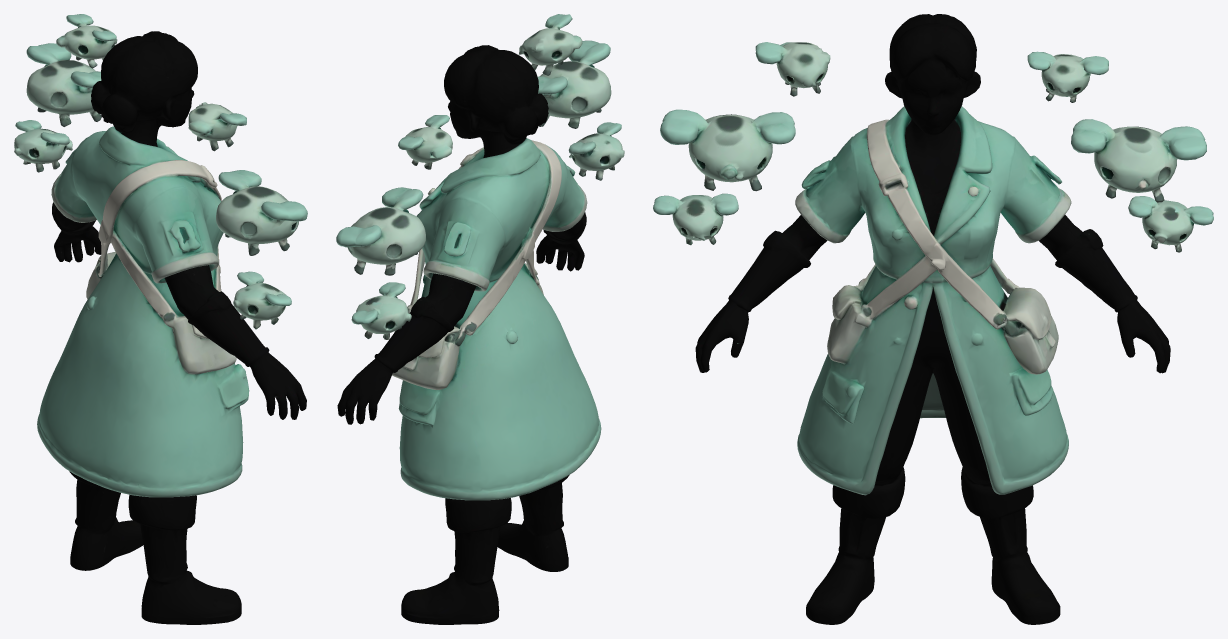
Rendered from whisper.glb.
The picture shows the model from 3 angles, left to right: view 1: azimuth 30°, elevation 25°; view 2: azimuth 150°, elevation 25°; view 3: azimuth 270°, elevation 25°; orthographic projection. The views are drawn at different scales.
Visible parts, largest first — view 1: tripo_node_5eeebced-ae30-4eb2-827e-e69b6f96a2a5; view 2: tripo_node_5eeebced-ae30-4eb2-827e-e69b6f96a2a5; view 3: tripo_node_5eeebced-ae30-4eb2-827e-e69b6f96a2a5.
Part boxes in pixels (bbox=[...]): tripo_node_5eeebced-ae30-4eb2-827e-e69b6f96a2a5: bbox=[14, 14, 307, 624]; tripo_node_5eeebced-ae30-4eb2-827e-e69b6f96a2a5: bbox=[336, 14, 624, 624]; tripo_node_5eeebced-ae30-4eb2-827e-e69b6f96a2a5: bbox=[653, 14, 1213, 624].
Bounding box in the file's own units: 0.2963 × 1 × 0.871.
1 material, 1 textured.
